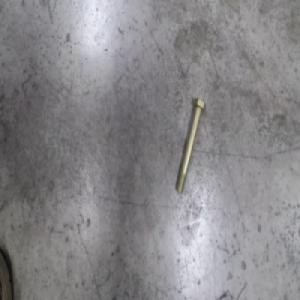Bolt: (175, 97, 207, 195)
